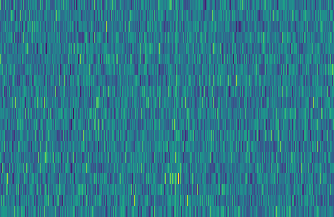signal: (170, 0, 181, 217)
